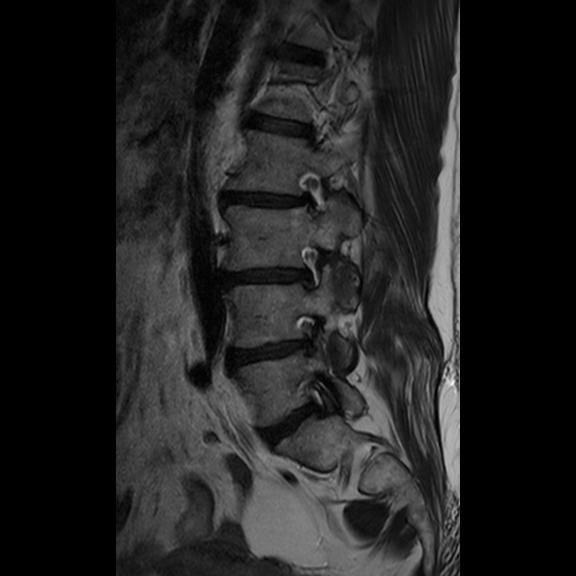RFS0: (290, 160, 344, 222), (287, 233, 337, 297)
RFS2: (286, 308, 337, 364)
